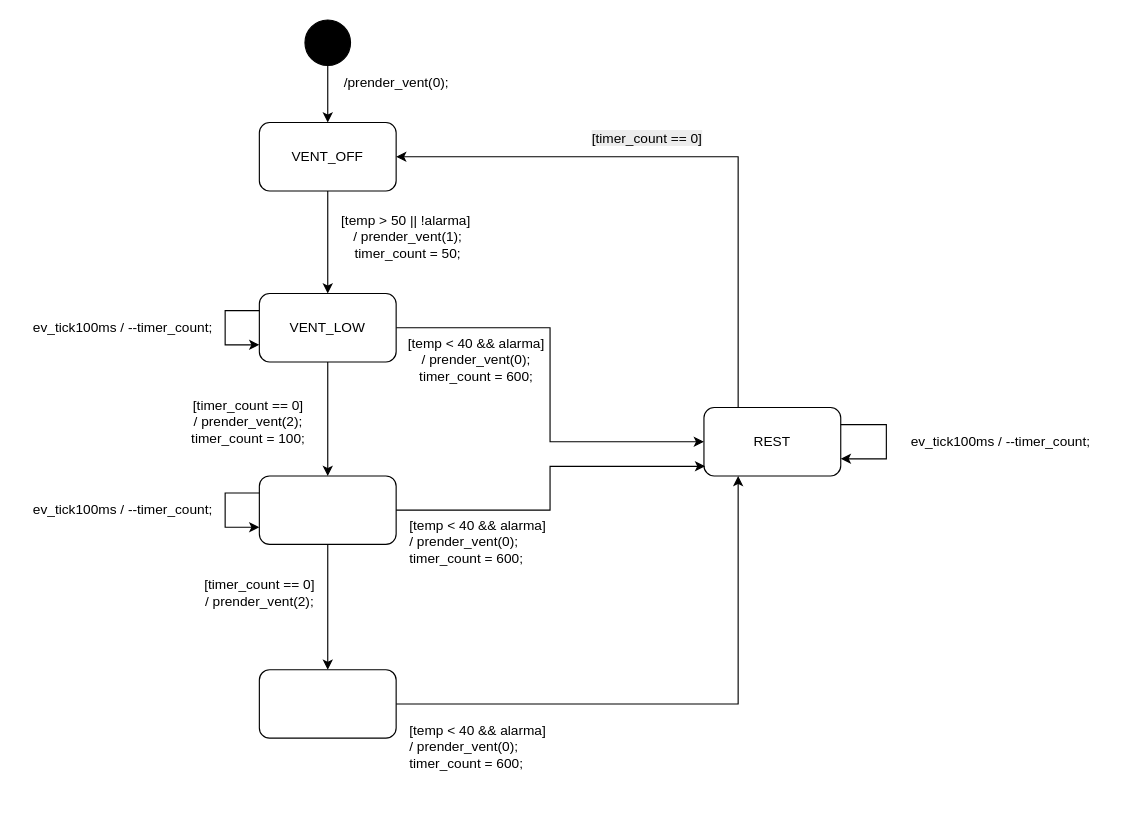
Image size: 1122x827. Some labels were removed from this diagram. The centre of each missing label's shape, as x and y in pixels:
"VENT_MAX" belongs at [327,703].
"VENT_MED" belongs at [327,509].
